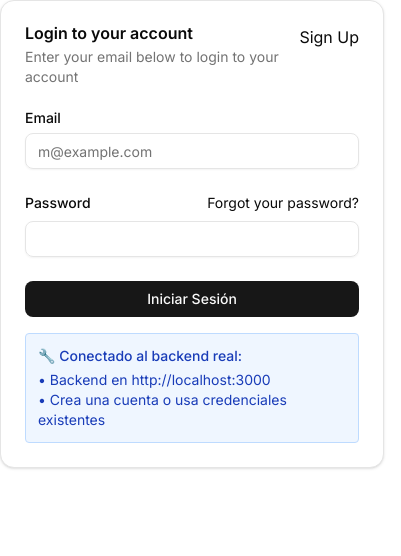
Test: CardDemo (LoginComponent) › shows validation errors for empty fields
The width and height of the screenshot is (401, 556).
Note: Type and then clear to bypass HTML5 validation
Type "a" into the field labelled "Email" at (192, 151), box [25,133,359,169]
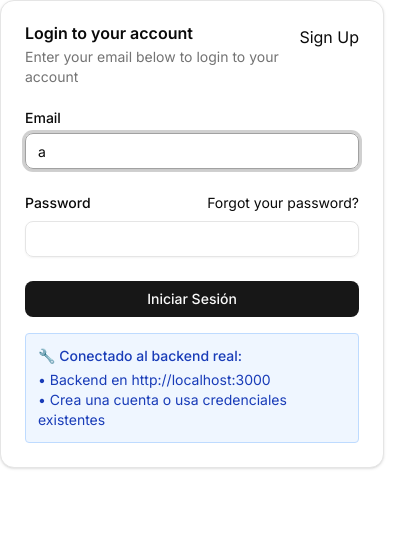
Clear the field labelled "Email" at (192, 151), box [25,133,359,169]
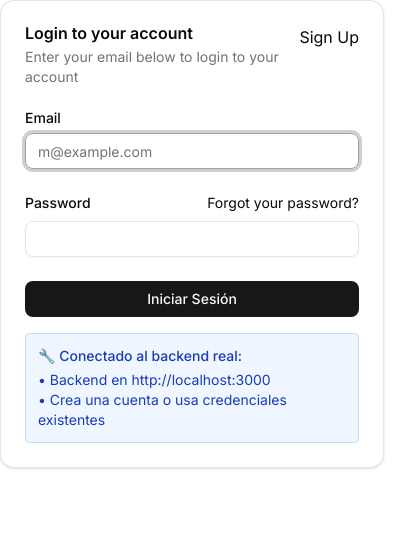
Type "a" into the password field labelled "Password" at (192, 239), box [25,221,359,257]
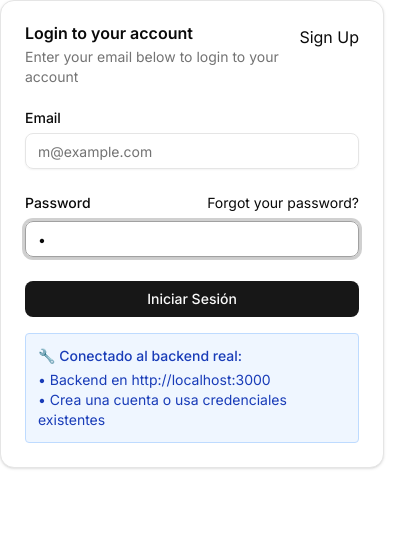
Clear the password field labelled "Password" at (192, 239), box [25,221,359,257]
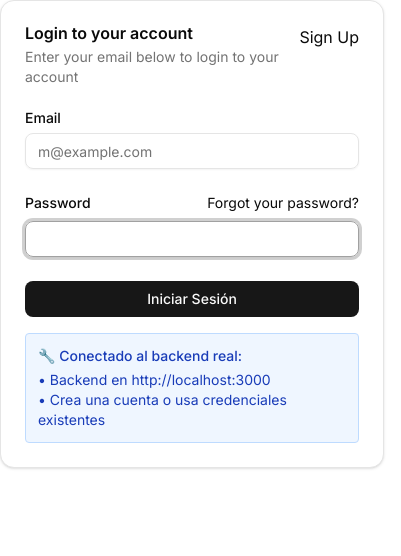
Click the button "Iniciar Sesión" at (192, 299), box [25,281,359,317]
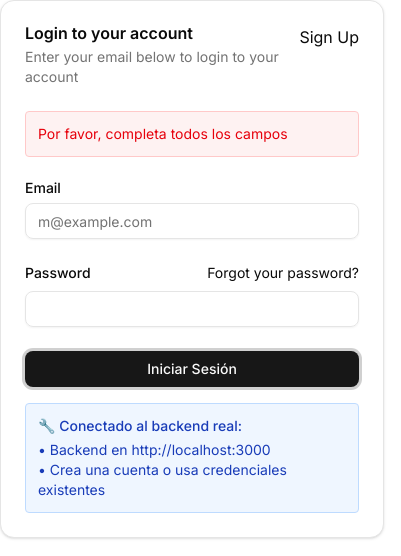
expect the text "Por favor, completa todos los campos" is shown: met, box [25,111,359,157]
